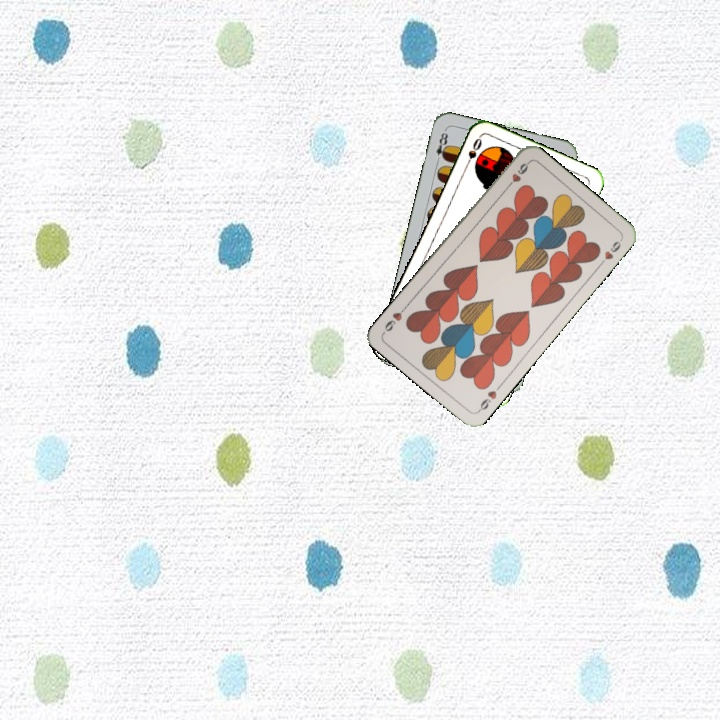E8: (432, 126, 451, 166)
H9: (474, 380, 504, 415), (502, 158, 532, 192)
SO: (460, 134, 485, 172)
